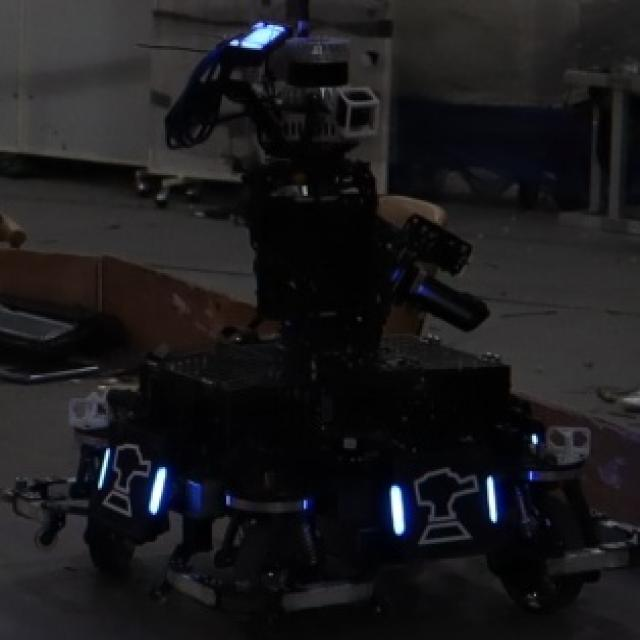Bs: (389, 465, 502, 546), (96, 438, 167, 529)
